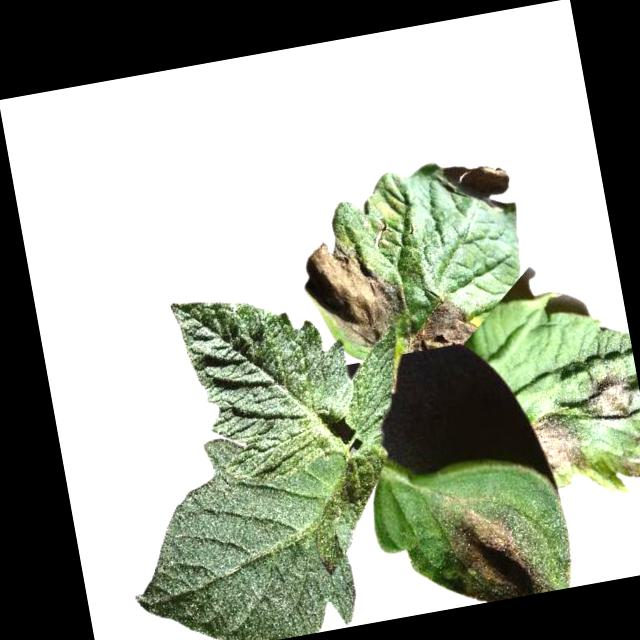Late_blight: (297, 230, 411, 359), (440, 494, 549, 606), (401, 290, 481, 356), (441, 157, 517, 221), (531, 406, 590, 477), (579, 367, 639, 428), (618, 455, 640, 479)
